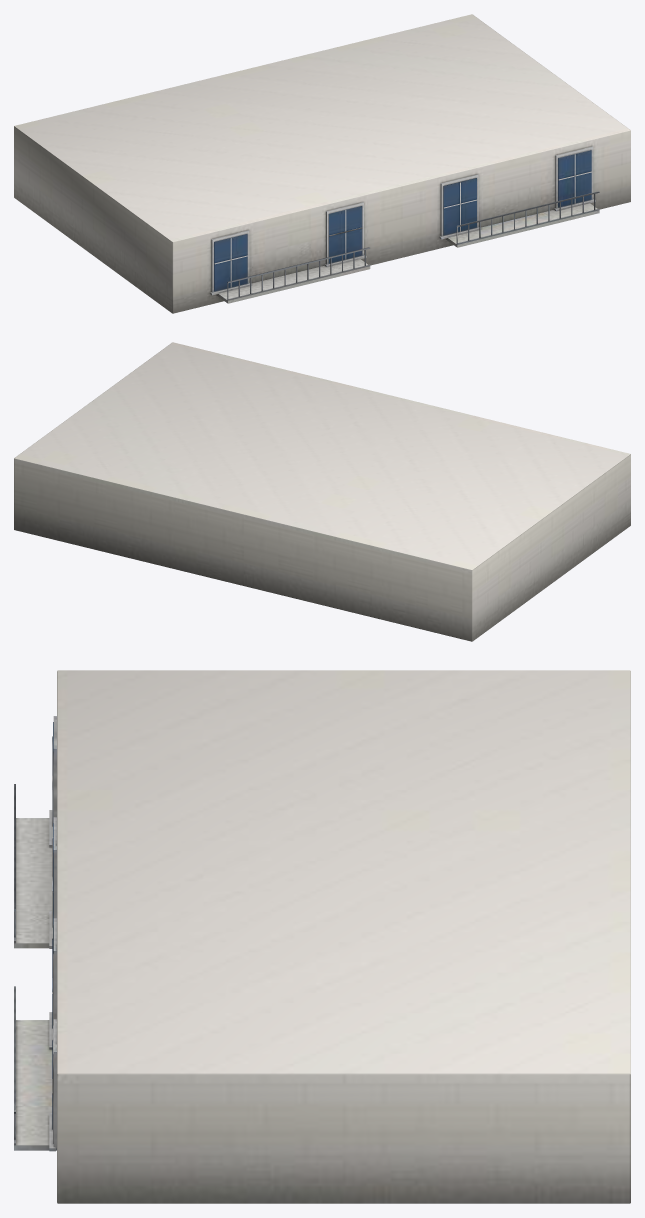
The model's file is planta_balcones.glb.
3 renders of one model, top to bottom at view 1: azimuth 30°, elevation 25°; view 2: azimuth 150°, elevation 25°; view 3: azimuth 270°, elevation 25°, orthographic. The views are drawn at different scales.
Visible parts, largest first — view 1: planta_balcones; view 2: planta_balcones; view 3: planta_balcones.
Boxes of the visible parts, x1,y1,x2,y2 form: planta_balcones: (14, 14, 630, 313); planta_balcones: (14, 342, 630, 641); planta_balcones: (14, 670, 630, 1203).
Bounding box in the file's own units: 20 × 3 × 12.9.
Materials: 1 (1 with a texture image).
